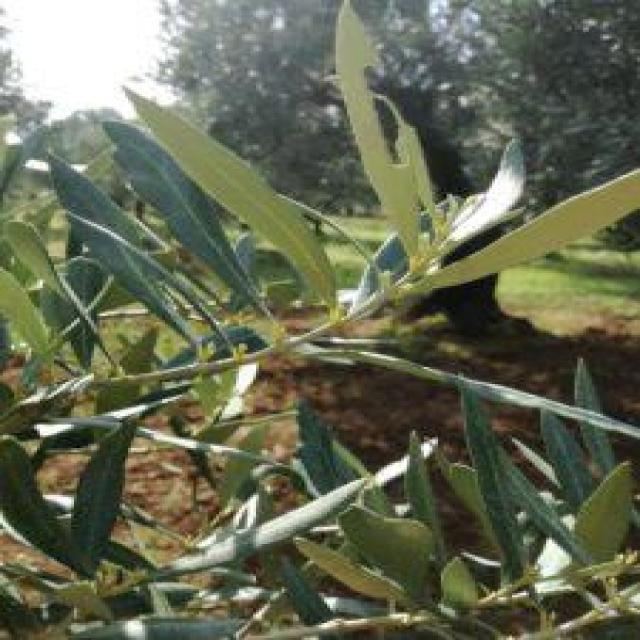Healthy: (125, 87, 333, 303), (358, 169, 637, 314), (102, 122, 259, 307), (0, 437, 85, 576), (71, 422, 131, 574)
